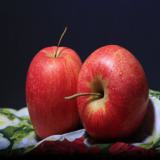apple: (76, 44, 148, 143), (26, 46, 83, 141)
